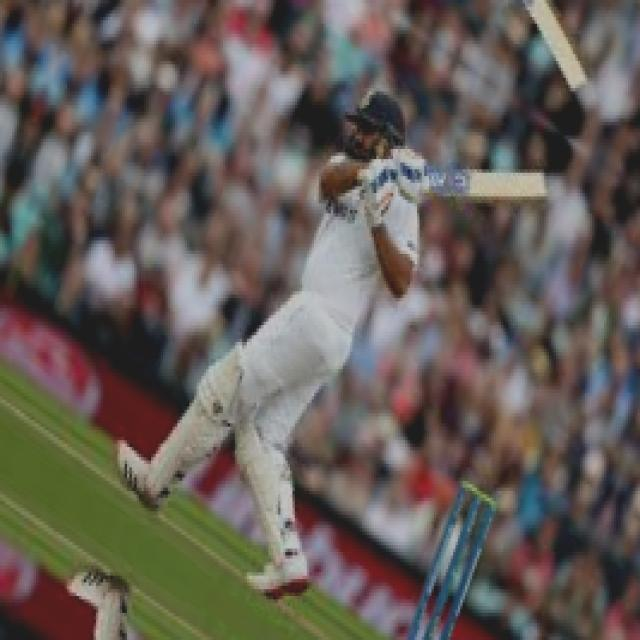toe: (528, 168, 552, 208)
